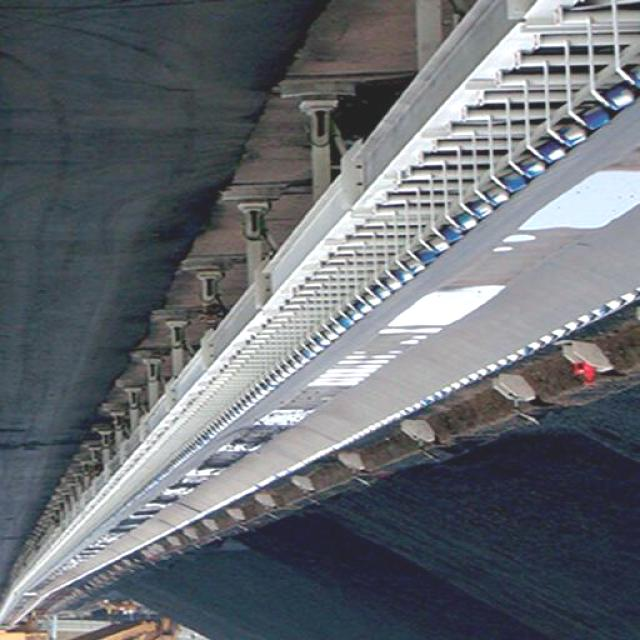conveyor: (0, 90, 640, 623)
